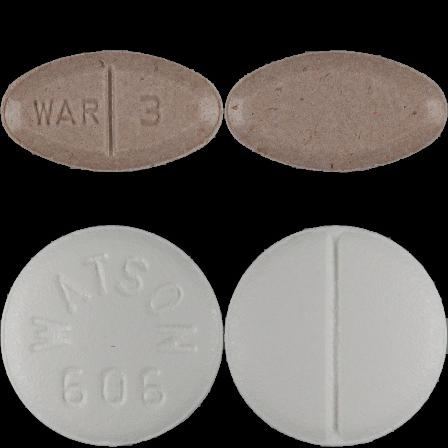63629-5257: (0, 0, 224, 224)
